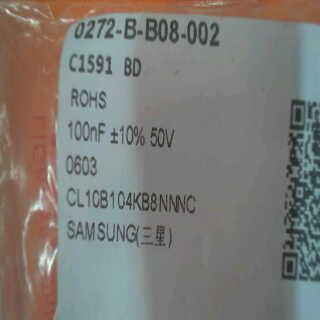100nF: (67, 116, 113, 145)
